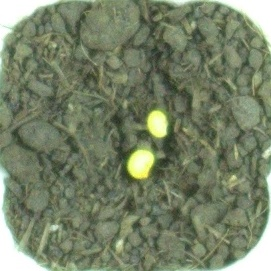chilli seed: (125, 149, 157, 180), (145, 108, 170, 138)
